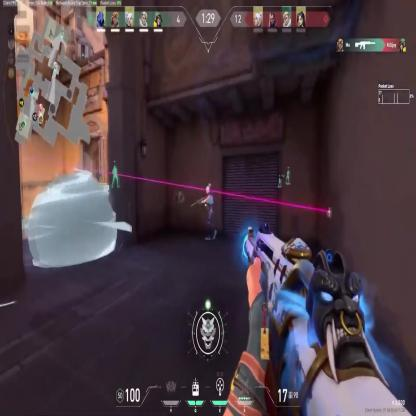enemy: (200, 185, 217, 242)
enemy_head: (205, 184, 210, 195)
